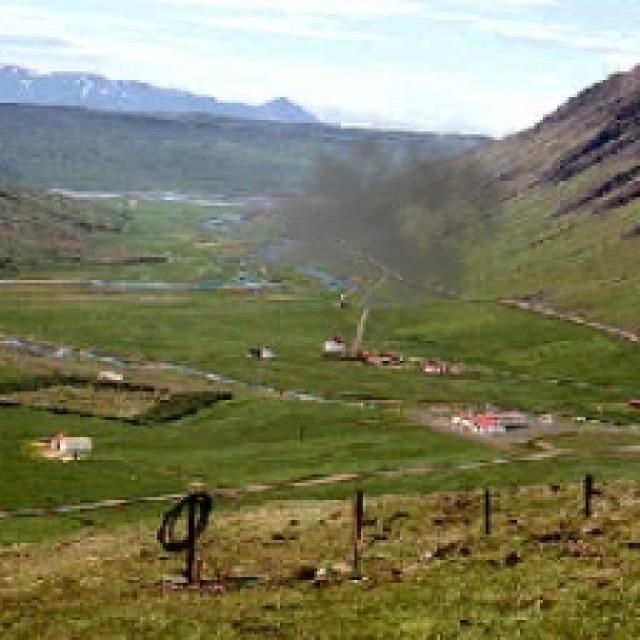Smoke: (252, 111, 512, 323)
